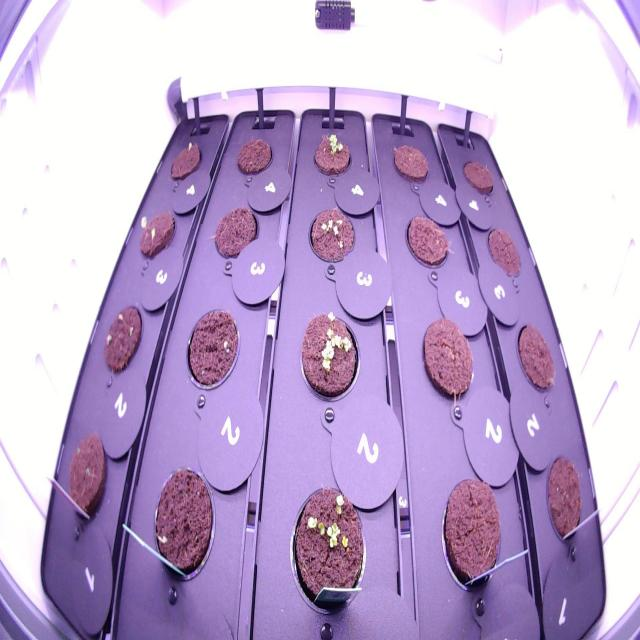germination: (285, 476, 373, 625), (291, 304, 364, 412), (300, 199, 359, 276), (95, 299, 146, 386), (308, 121, 356, 188), (132, 202, 181, 266)
pod: (146, 452, 221, 602), (432, 470, 506, 598), (178, 296, 244, 404), (416, 310, 480, 414), (540, 448, 592, 560), (62, 427, 115, 528), (507, 309, 562, 401), (208, 194, 265, 276), (400, 206, 454, 283), (480, 218, 528, 293), (385, 132, 434, 190), (228, 128, 276, 187), (455, 144, 500, 206), (164, 132, 205, 190)
